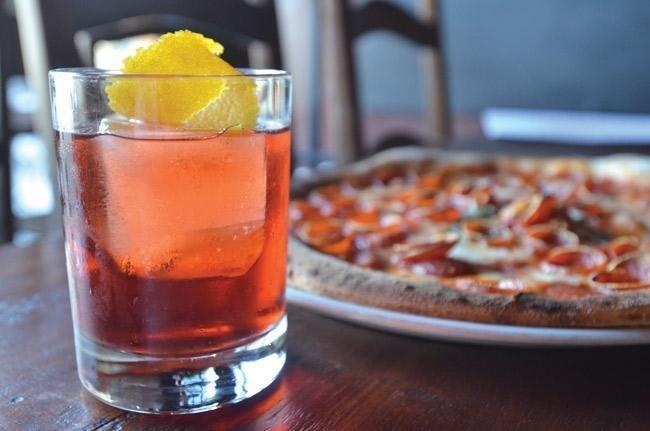glass-normal: (45, 66, 294, 416)
